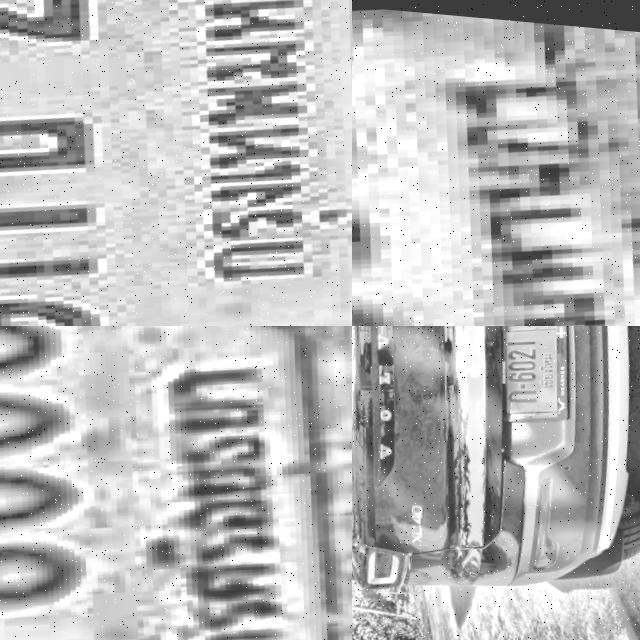license-plate: (0, 0, 352, 326), (0, 326, 352, 640), (352, 0, 640, 326), (490, 326, 589, 422)
